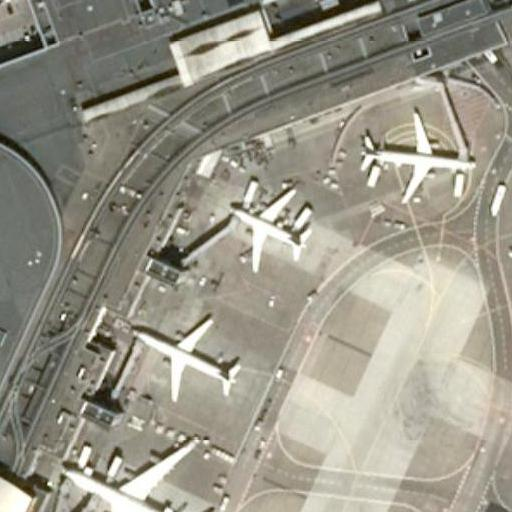Aircraft: (57, 432, 216, 512), (358, 105, 474, 200), (129, 315, 242, 402), (230, 183, 313, 269), (508, 186, 512, 307)
